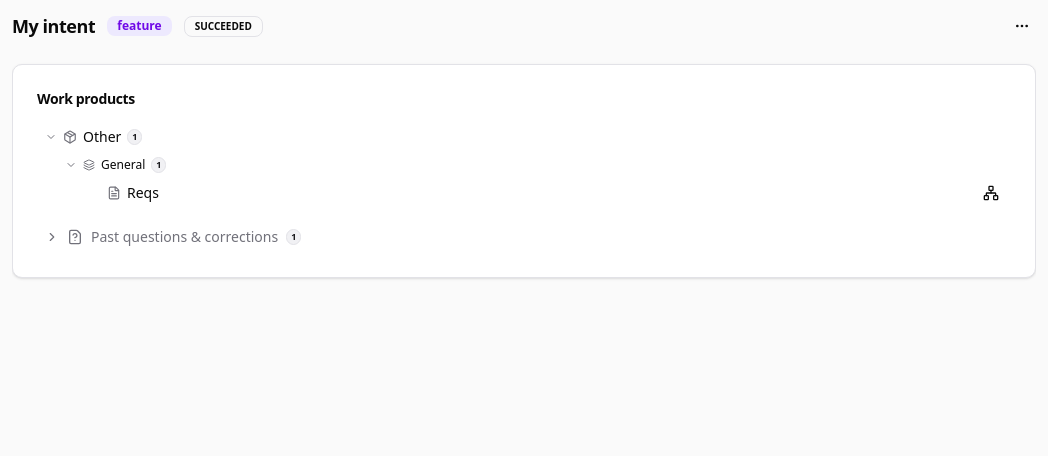
it: IntentView › groups answered questions with artifacts in work products
The width and height of the screenshot is (1048, 456).
Expected: the text "Work products" is shown, left=37, top=89, right=135, bottom=109
Click the text "Past questions & corrections": [185, 237] box left=91, top=227, right=278, bottom=247
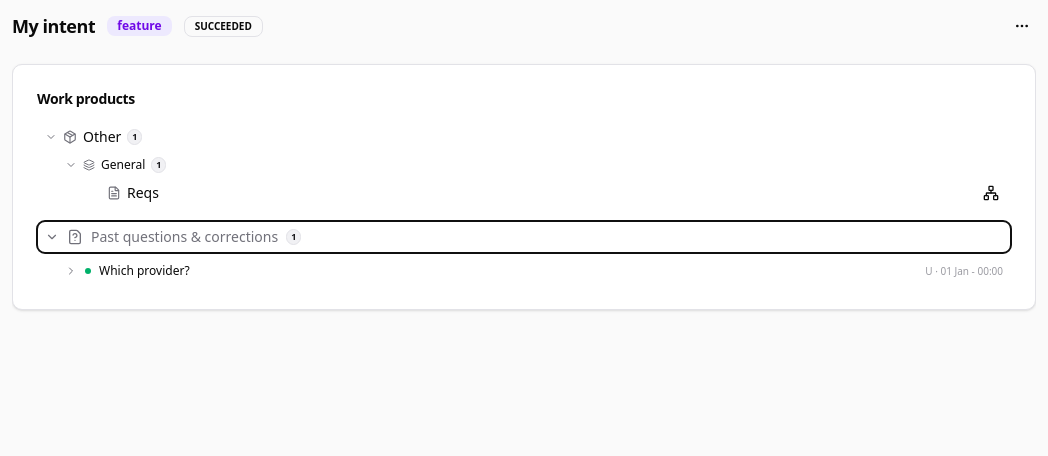
Expand the question row to see answer details
Click the text "Which provider?": [144, 270] box left=99, top=262, right=190, bottom=279
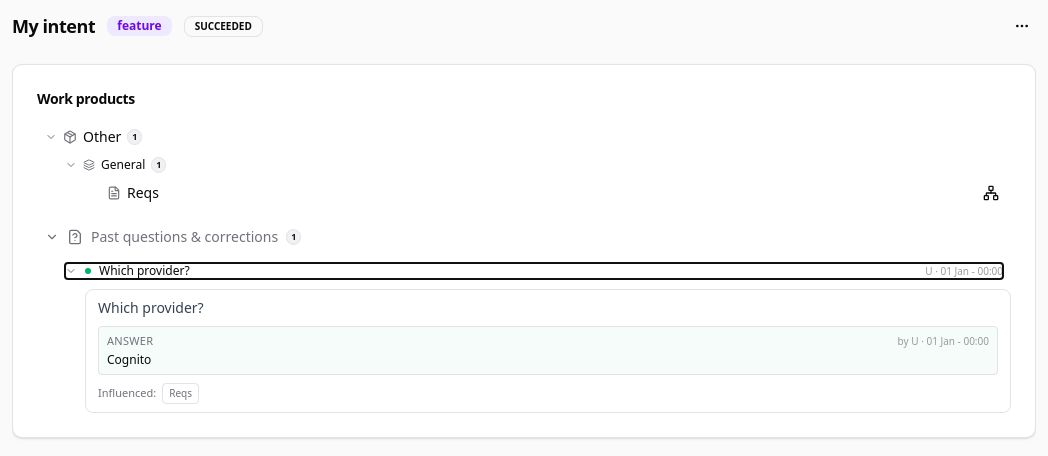
Result: the text "Cognito" is shown at left=107, top=350, right=151, bottom=368
Result: the text "Influenced:" is shown at left=98, top=385, right=156, bottom=401
